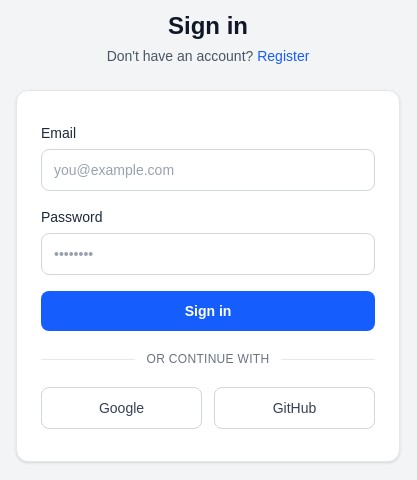
Test: LoginPage › disables the button while signing in
Type "alice@example.com" into the field labelled "Email" at (208, 170), box 41,149 -> 375,191
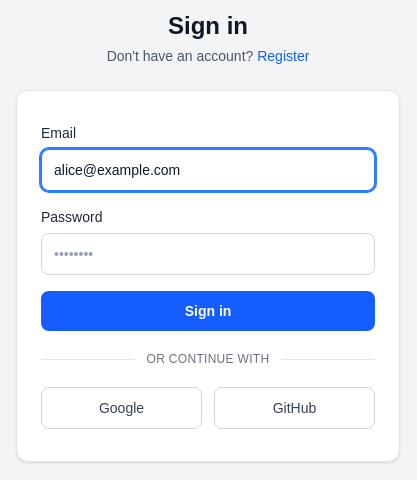
Type "mypassword" into the password field labelled "Password" at (208, 254), box 41,233 -> 375,275
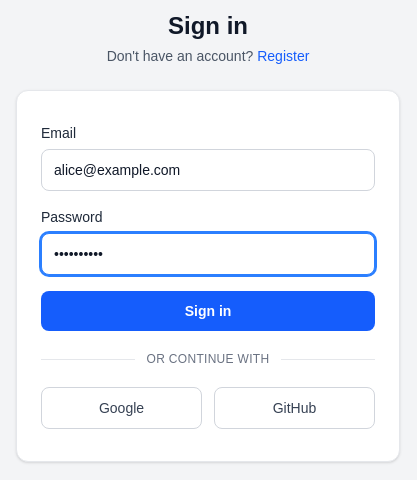
Click the button "Sign in" at (208, 311), box 41,291 -> 375,331
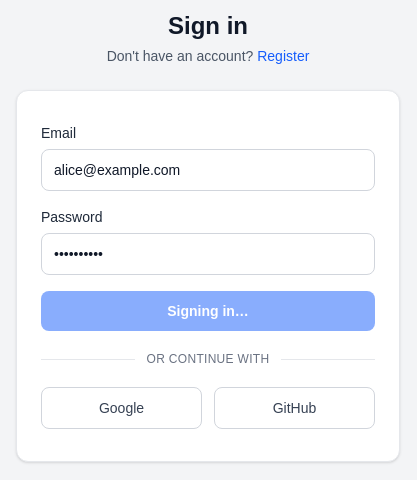
Now the button "Signing in…" is disabled, box 41,291 -> 375,331
